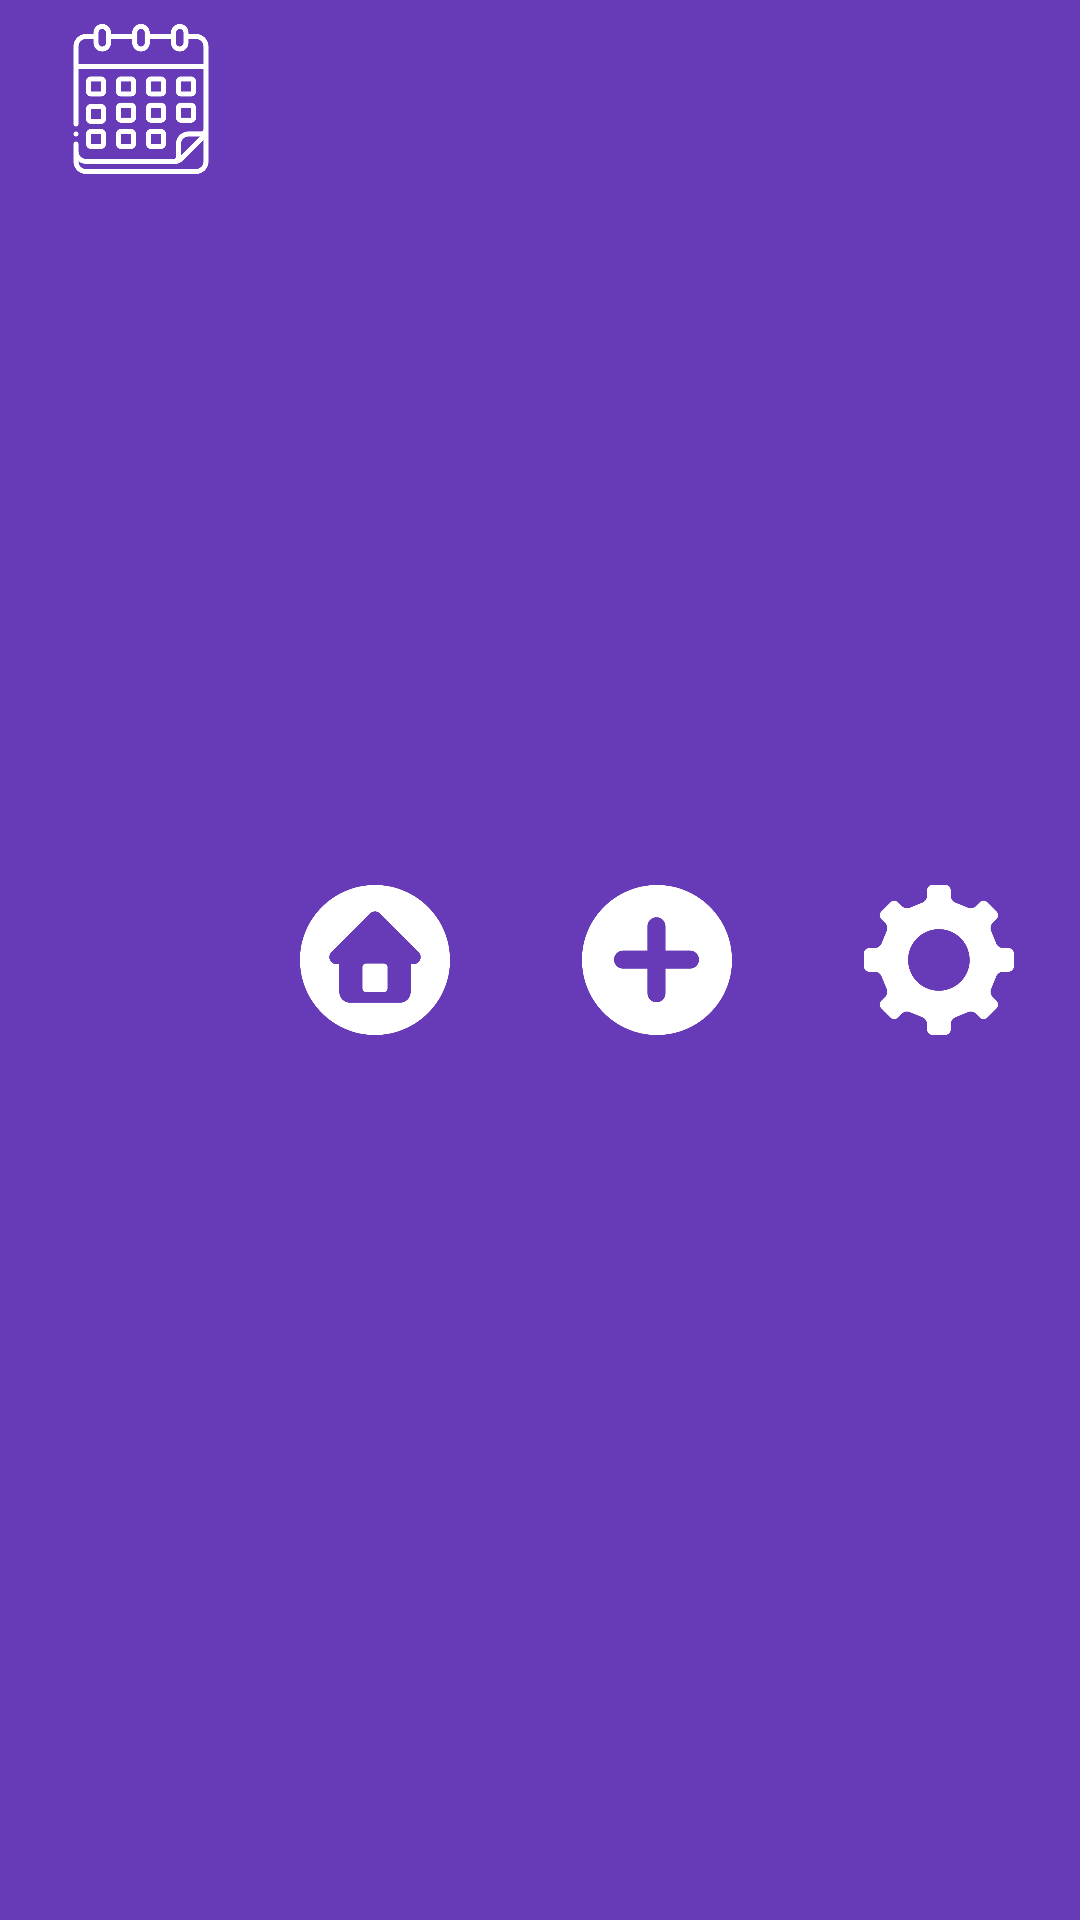

Named icons in this screenshot (1080 × 1920) and their bounding boxes, box(x1, y1, x2, y2):
Calendar: box(73, 24, 209, 174)
Create: box(582, 885, 732, 1035)
Dashboard: box(300, 885, 450, 1035)
Settings: box(864, 885, 1014, 1035)
